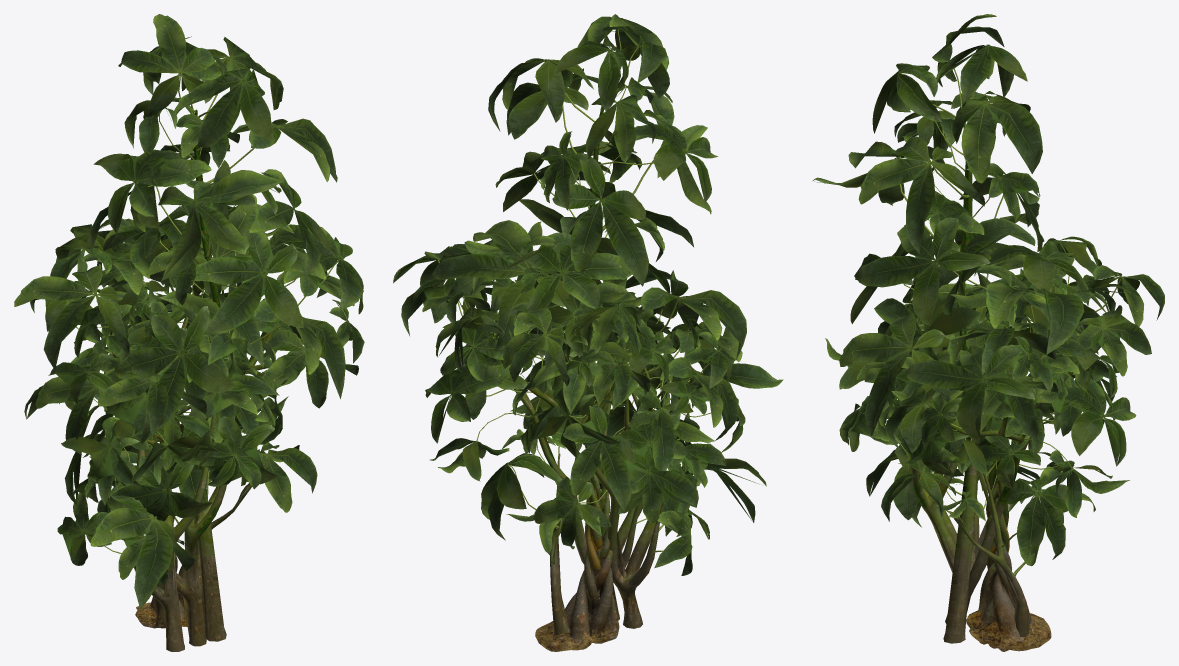
Rendered from pachira_aquatica_01.glb.
3 renders of one model, left to right at view 1: azimuth 30°, elevation 25°; view 2: azimuth 150°, elevation 25°; view 3: azimuth 270°, elevation 25°, orthographic.
Parts seen in each view (by area): view 1: pachira_aquatica_01_leaves_d, pachira_aquatica_01_leaves_d_lo, pachira_aquatica_01_leaves_c, pachira_aquatica_01_leaves_a, pachira_aquatica_01_leaves_c_lo, pachira_aquatica_01_leaves_a_lo, pachira_aquatica_01_bark_d_lo, pachira_aquatica_01_bark_d, pachira_aquatica_01_leaves_b, pachira_aquatica_01_leaves_b_lo, pachira_aquatica_01_bark_c, pachira_aquatica_01_bark_a (+1 smaller); view 2: pachira_aquatica_01_leaves_d, pachira_aquatica_01_leaves_c, pachira_aquatica_01_leaves_d_lo, pachira_aquatica_01_leaves_a, pachira_aquatica_01_leaves_c_lo, pachira_aquatica_01_leaves_a_lo, pachira_aquatica_01_bark_a, pachira_aquatica_01_leaves_b, pachira_aquatica_01_bark_c, pachira_aquatica_01_bark_d, pachira_aquatica_01_leaves_b_lo, pachira_aquatica_01_bark_a_lo (+2 smaller); view 3: pachira_aquatica_01_leaves_d, pachira_aquatica_01_leaves_d_lo, pachira_aquatica_01_leaves_c, pachira_aquatica_01_leaves_a, pachira_aquatica_01_leaves_b, pachira_aquatica_01_bark_d, pachira_aquatica_01_leaves_c_lo, pachira_aquatica_01_bark_a, pachira_aquatica_01_leaves_a_lo, pachira_aquatica_01_leaves_b_lo, pachira_aquatica_01_bark_d_lo, pachira_aquatica_01_bark_a_lo (+2 smaller).
Part boxes in pixels (x1,y1,x2,y2): pachira_aquatica_01_leaves_d: [14, 14, 364, 584]; pachira_aquatica_01_leaves_d_lo: [20, 18, 364, 580]; pachira_aquatica_01_leaves_c: [24, 218, 354, 609]; pachira_aquatica_01_leaves_a: [70, 194, 293, 457]; pachira_aquatica_01_leaves_c_lo: [27, 232, 353, 570]; pachira_aquatica_01_leaves_a_lo: [75, 194, 293, 455]; pachira_aquatica_01_bark_d_lo: [176, 146, 268, 643]; pachira_aquatica_01_bark_d: [98, 109, 283, 646]; pachira_aquatica_01_leaves_b: [120, 403, 317, 523]; pachira_aquatica_01_leaves_b_lo: [121, 399, 314, 509]; pachira_aquatica_01_bark_c: [99, 287, 213, 651]; pachira_aquatica_01_bark_a: [135, 348, 187, 628]; pachira_aquatica_01_leaves_d: [393, 14, 746, 539]; pachira_aquatica_01_leaves_c: [401, 267, 783, 575]; pachira_aquatica_01_leaves_d_lo: [394, 14, 746, 538]; pachira_aquatica_01_leaves_a: [431, 199, 713, 470]; pachira_aquatica_01_leaves_c_lo: [403, 268, 759, 570]; pachira_aquatica_01_leaves_a_lo: [443, 200, 714, 470]; pachira_aquatica_01_bark_a: [535, 360, 619, 651]; pachira_aquatica_01_leaves_b: [481, 399, 676, 564]; pachira_aquatica_01_bark_c: [492, 333, 694, 628]; pachira_aquatica_01_bark_d: [462, 107, 664, 620]; pachira_aquatica_01_leaves_b_lo: [481, 399, 675, 538]; pachira_aquatica_01_bark_a_lo: [535, 375, 619, 651]; pachira_aquatica_01_leaves_d: [813, 14, 1164, 527]; pachira_aquatica_01_leaves_d_lo: [814, 16, 1164, 516]; pachira_aquatica_01_leaves_c: [825, 272, 1151, 520]; pachira_aquatica_01_leaves_a: [874, 218, 1099, 434]; pachira_aquatica_01_leaves_b: [881, 404, 1095, 576]; pachira_aquatica_01_bark_d: [912, 124, 1034, 643]; pachira_aquatica_01_leaves_c_lo: [831, 279, 1131, 509]; pachira_aquatica_01_bark_a: [966, 443, 1051, 651]; pachira_aquatica_01_leaves_a_lo: [874, 231, 1098, 429]; pachira_aquatica_01_leaves_b_lo: [881, 413, 1088, 566]; pachira_aquatica_01_bark_d_lo: [919, 161, 1022, 642]; pachira_aquatica_01_bark_a_lo: [968, 447, 1051, 651].
Size of the model in its own units: 1.05 by 1.9 by 0.9971.
Materials: 2 (2 with a texture image).
